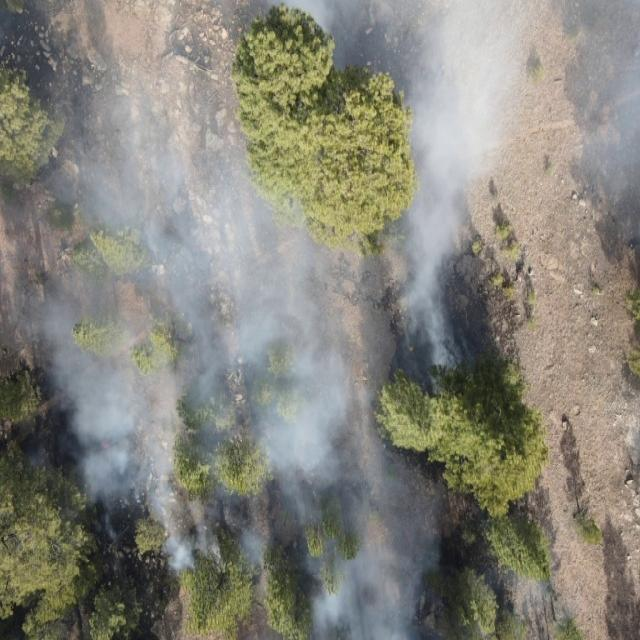fire: (100, 435, 113, 454)
smoke: (0, 0, 512, 505), (228, 505, 566, 640), (512, 0, 640, 232), (91, 506, 228, 576)
